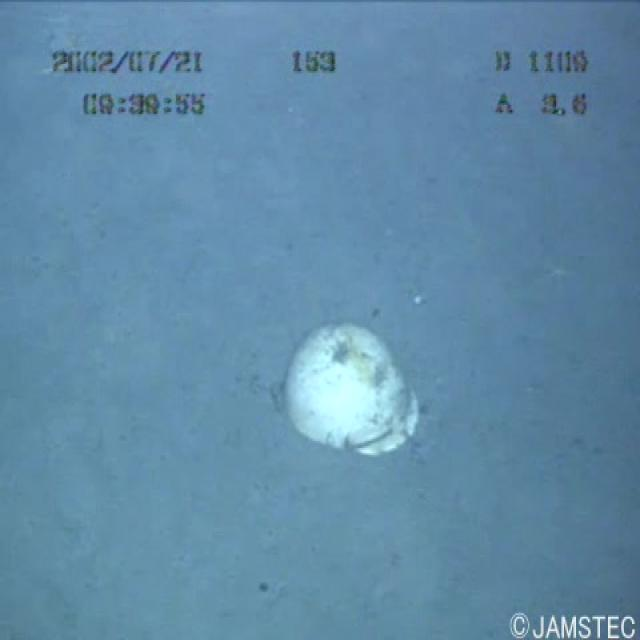plastic: (215, 277, 453, 475)
